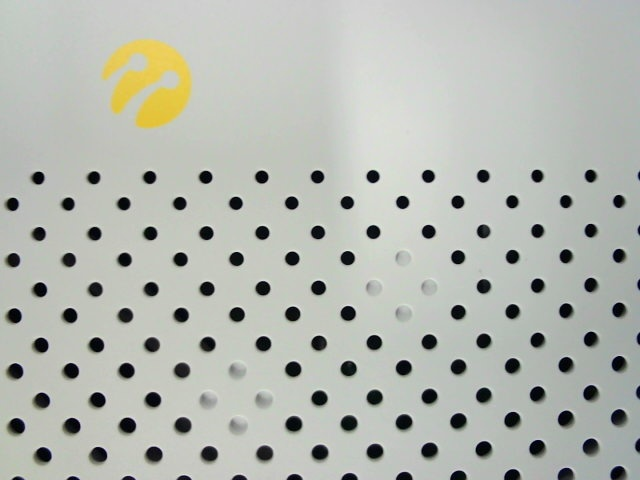AV_H3600Yellow: (96, 32, 202, 135)
